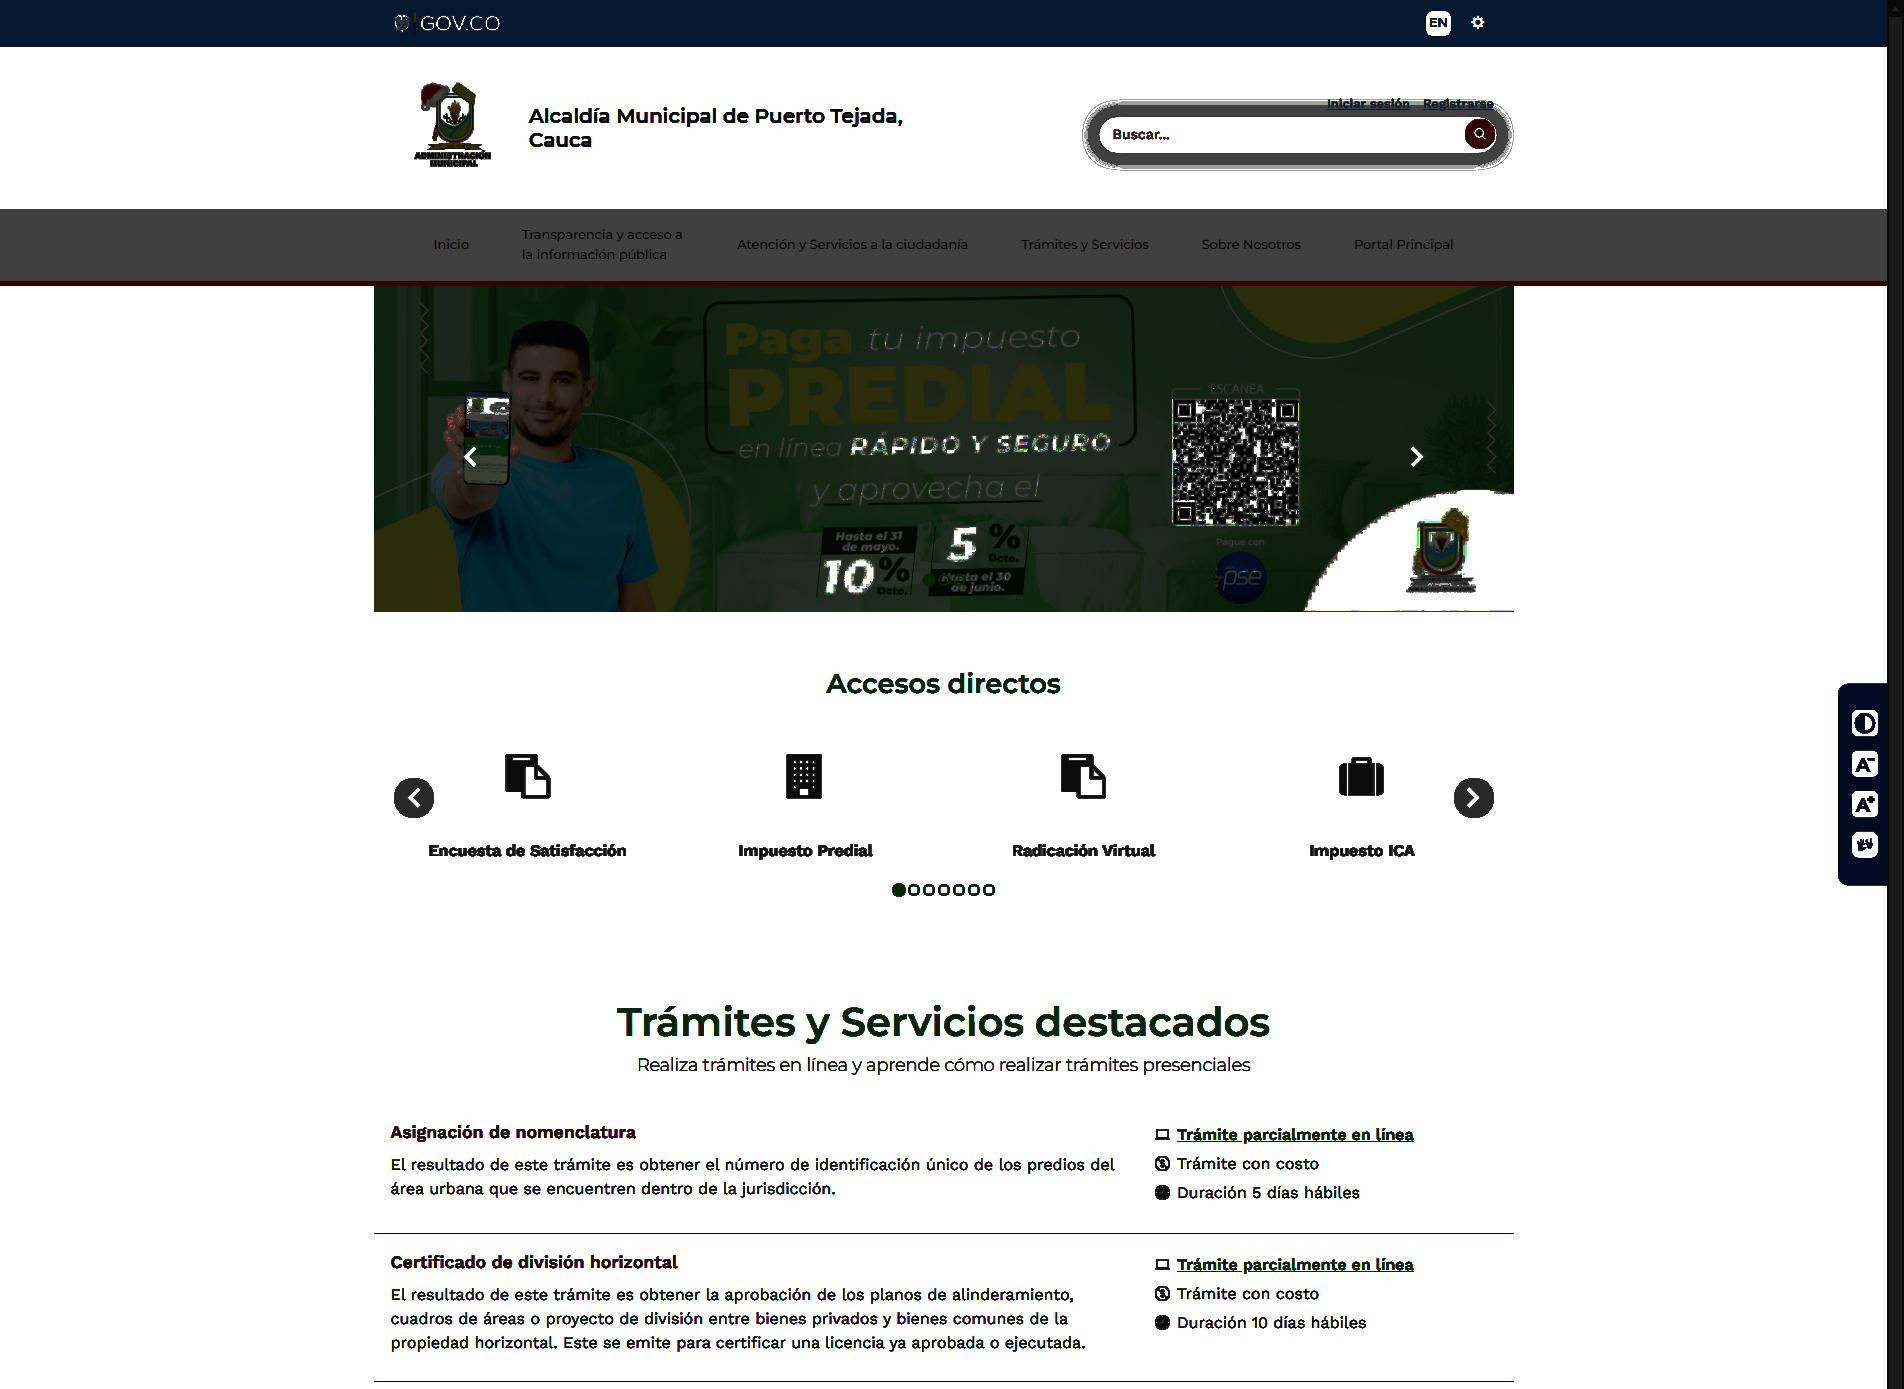banner principal: (371, 279, 1523, 618)
barra accesibilidad: (1837, 680, 1889, 887)
barra govco: (386, 0, 1488, 48)
btn atencion ciudadano: (730, 228, 970, 257)
btn buscador: (1095, 112, 1497, 155)
btn idiomas: (1426, 7, 1452, 39)
btn inicio: (432, 235, 472, 253)
btn inicio sesion: (1323, 94, 1414, 115)
btn registro: (1421, 94, 1499, 114)
btn tramites: (603, 995, 1282, 1051), (1018, 230, 1151, 254)
btn transpariencia: (516, 226, 684, 264)
logogovco: (392, 5, 501, 40)
menu principal: (431, 223, 1459, 269)
